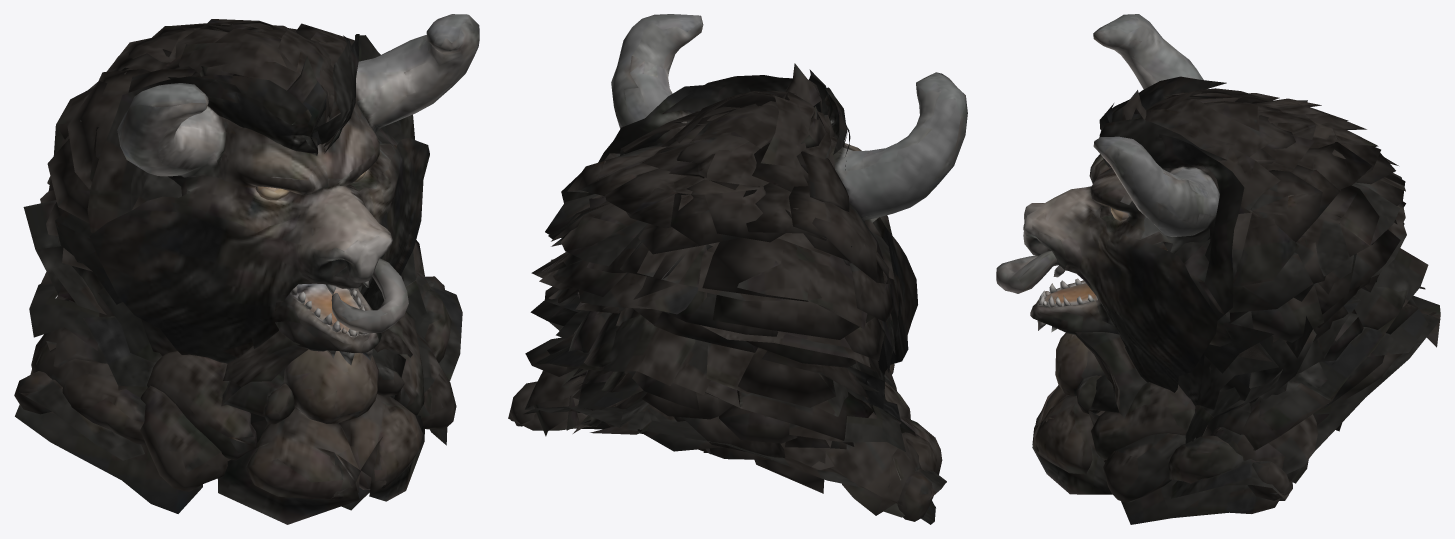
The model's file is minotaur.glb.
The picture shows the model from 3 angles, left to right: view 1: azimuth 30°, elevation 25°; view 2: azimuth 150°, elevation 25°; view 3: azimuth 270°, elevation 25°; orthographic projection. The views are drawn at different scales.
Bounding box in the file's own units: 1 × 0.9643 × 1.
Materials: 1 (1 with a texture image).
